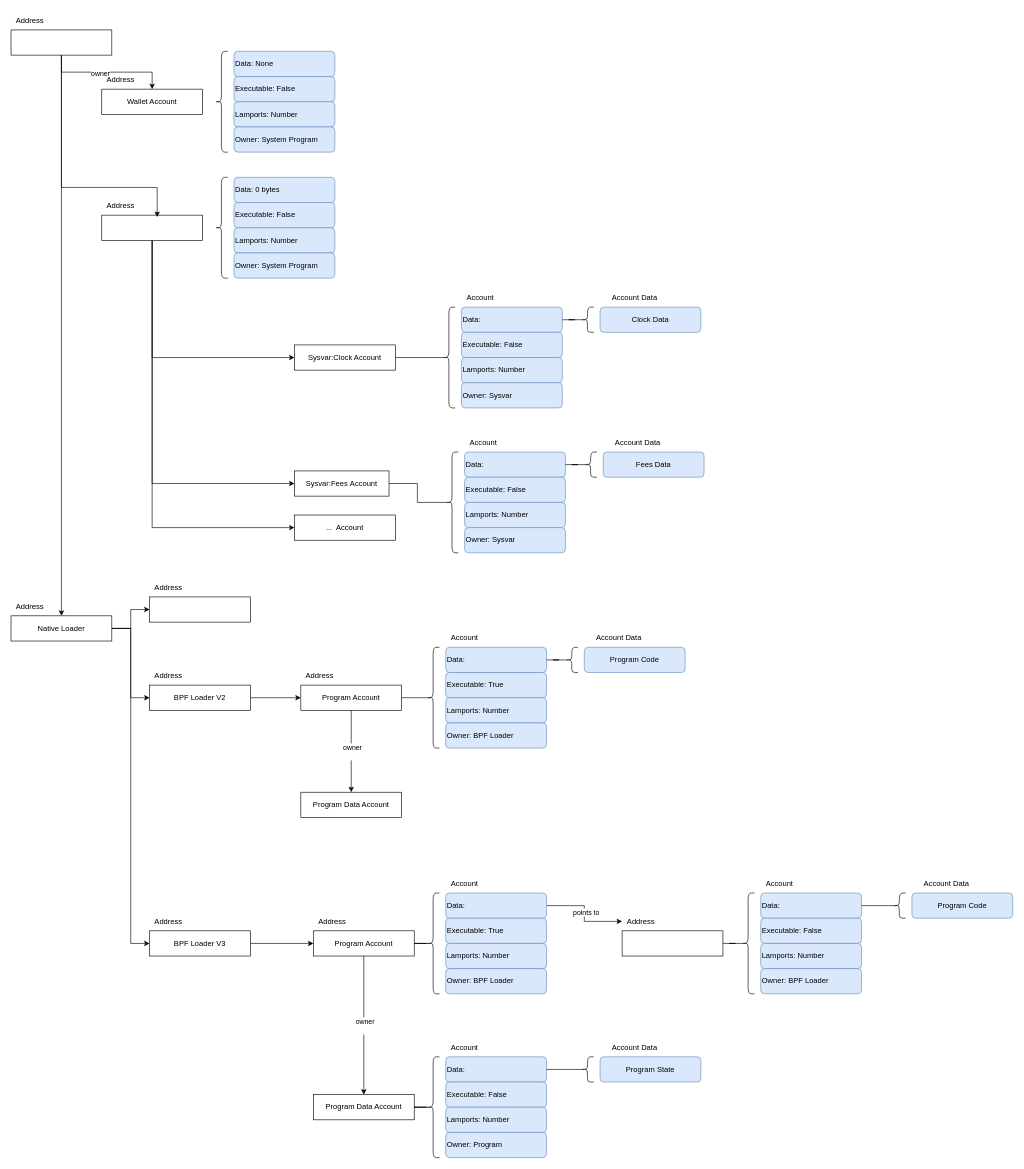
Image size: 1024x1169. Some labels were removed from this diagram. Each missing label, with the box of its shape:
BPF Loader V1: (149, 596, 250, 622)
Program Executable Data Account: (621, 930, 723, 956)
System Program: (10, 29, 112, 55)
Sysvar Account: (101, 215, 203, 240)
